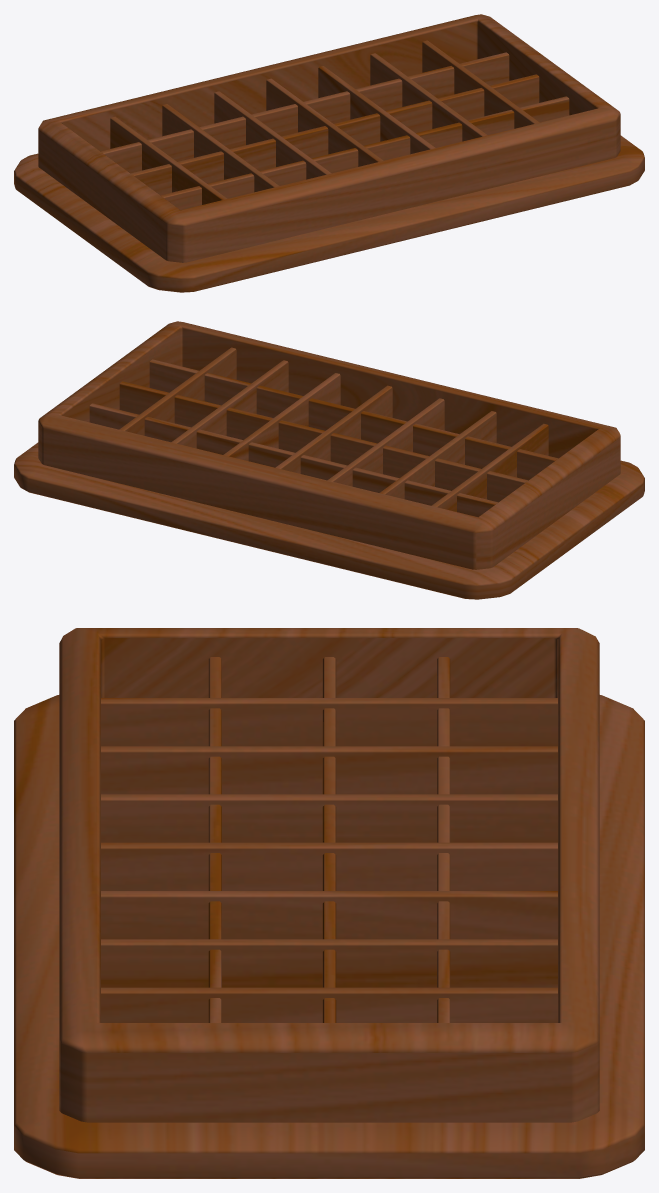
Rendered from Chess_Piece_Box_01.fbx.
3 views of the same model, one above another, from view 1: azimuth 30°, elevation 25°; view 2: azimuth 150°, elevation 25°; view 3: azimuth 270°, elevation 25° (orthographic). The views are drawn at different scales.
Visible parts, largest first — view 1: Chess_Piece_Box_01; view 2: Chess_Piece_Box_01; view 3: Chess_Piece_Box_01.
Boxes of the visible parts, box(x1,y1,x2,y2) form: Chess_Piece_Box_01: box(14, 14, 644, 292); Chess_Piece_Box_01: box(14, 321, 644, 599); Chess_Piece_Box_01: box(14, 628, 644, 1178).
Size of the model in its own units: 47.81 by 5.93 by 27.73.
